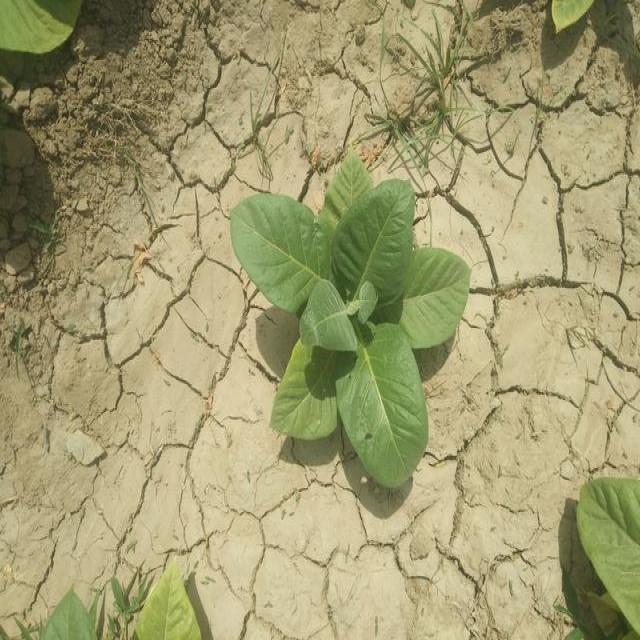crop: (232, 159, 468, 498), (26, 569, 196, 640), (566, 490, 640, 637), (0, 0, 86, 64), (540, 0, 596, 40)
